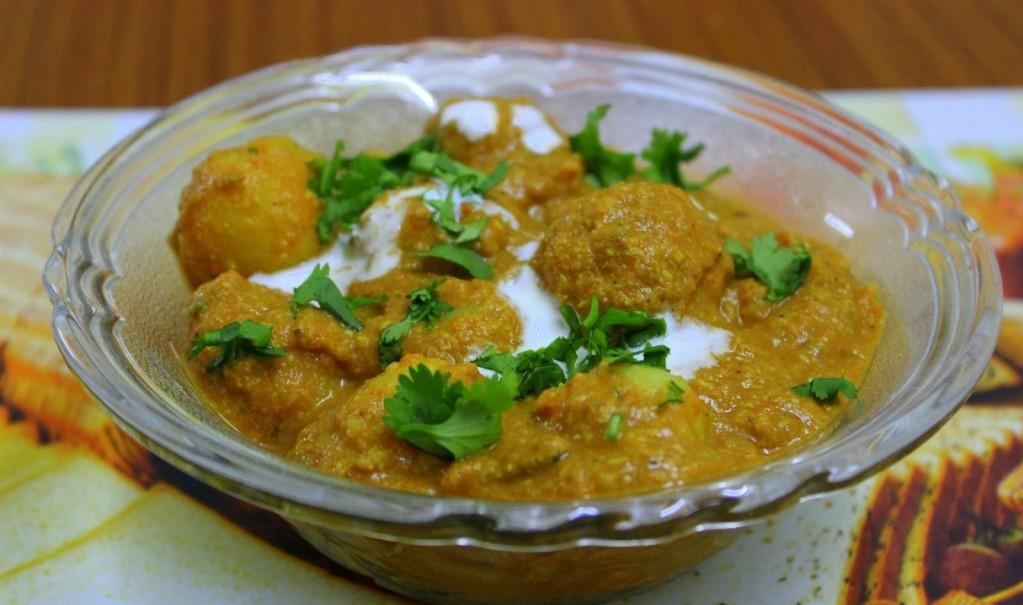DumAloo: (163, 90, 886, 501)
